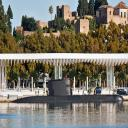submarine: (11, 81, 125, 104)
